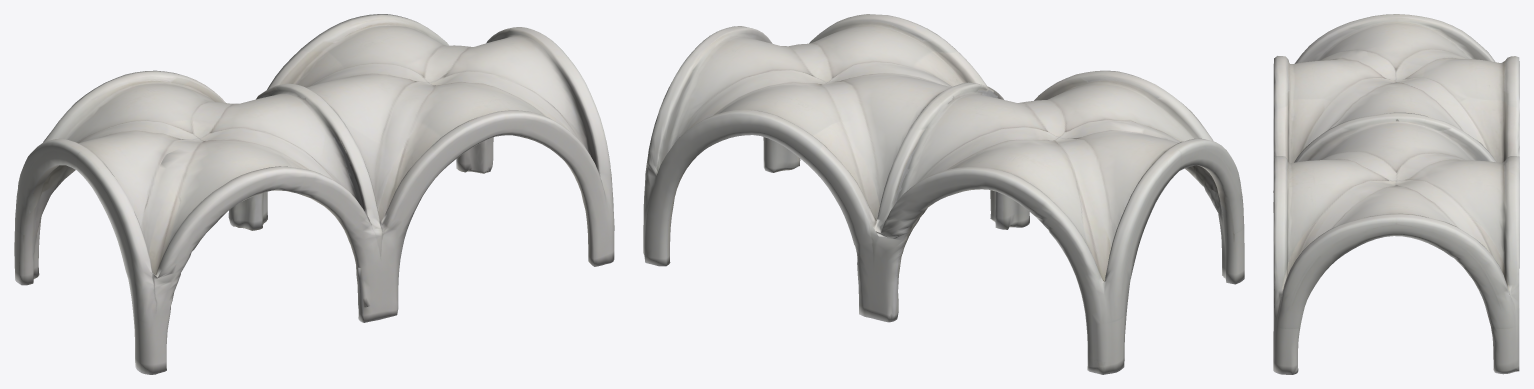
Rendered from cross_vault_low_poly_0522203508_texture.fbx.
3 renders of one model, left to right at view 1: azimuth 30°, elevation 25°; view 2: azimuth 150°, elevation 25°; view 3: azimuth 270°, elevation 25°, orthographic. The views are drawn at different scales.
Visible parts, largest first — view 1: input; view 2: input; view 3: input.
Boxes of the visible parts, box(x1,y1,x2,y2) form: input: box(14, 14, 614, 374); input: box(643, 14, 1244, 374); input: box(1273, 14, 1519, 374).
Bounding box in the file's own units: 200 × 70.53 × 101.
Materials: 1 (1 with a texture image).
